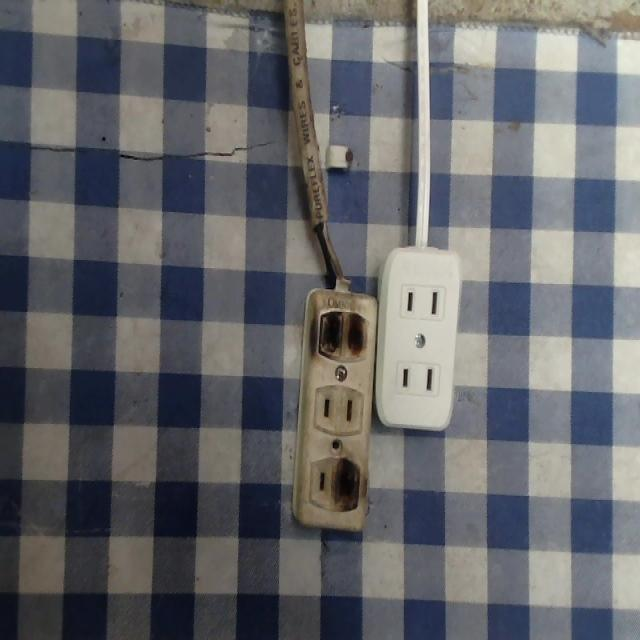-: (318, 306, 370, 362), (332, 456, 362, 513)
